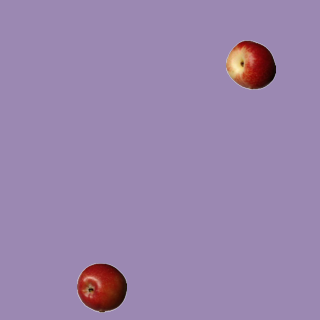Apple Braeburn: (76, 262, 126, 312)
Nectarine: (225, 39, 275, 89)
